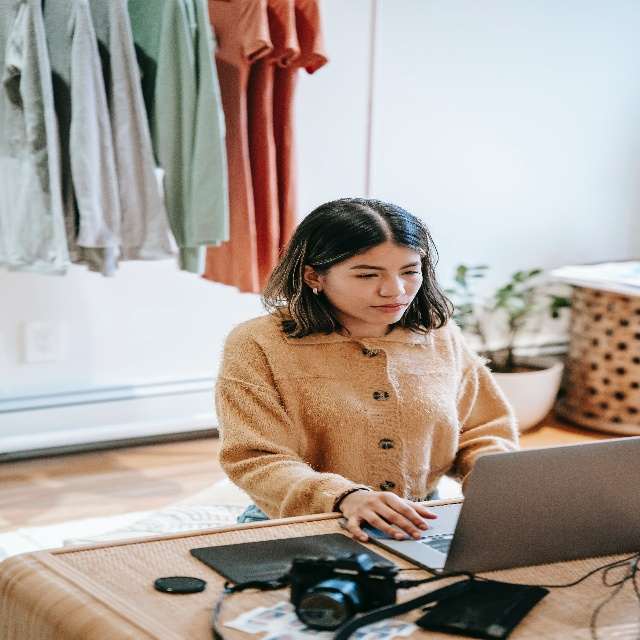Sin_guantes: (341, 491, 439, 541)
